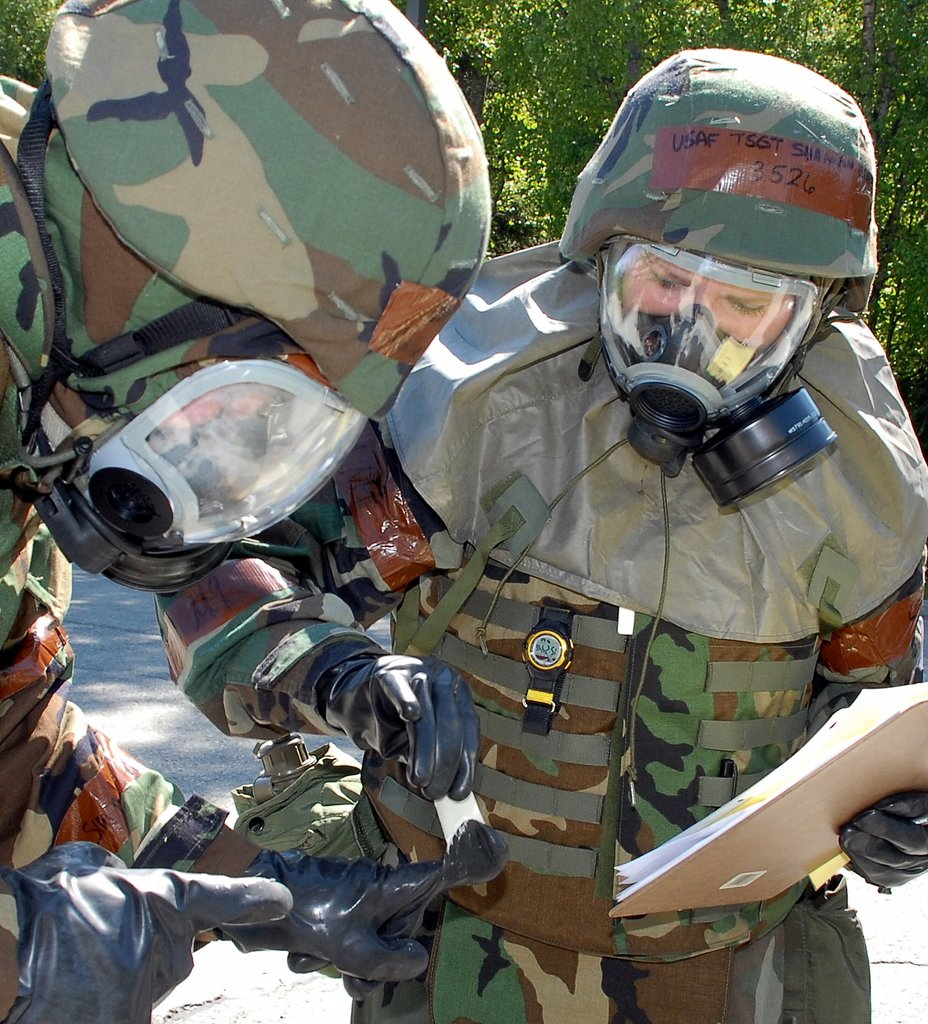Person: (155, 45, 928, 1024), (0, 0, 511, 1024)
